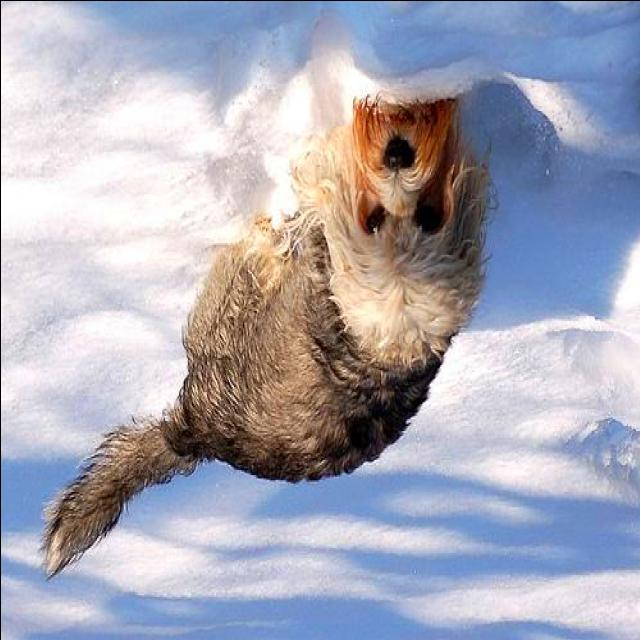dandie_dinmont: (34, 90, 500, 582)
